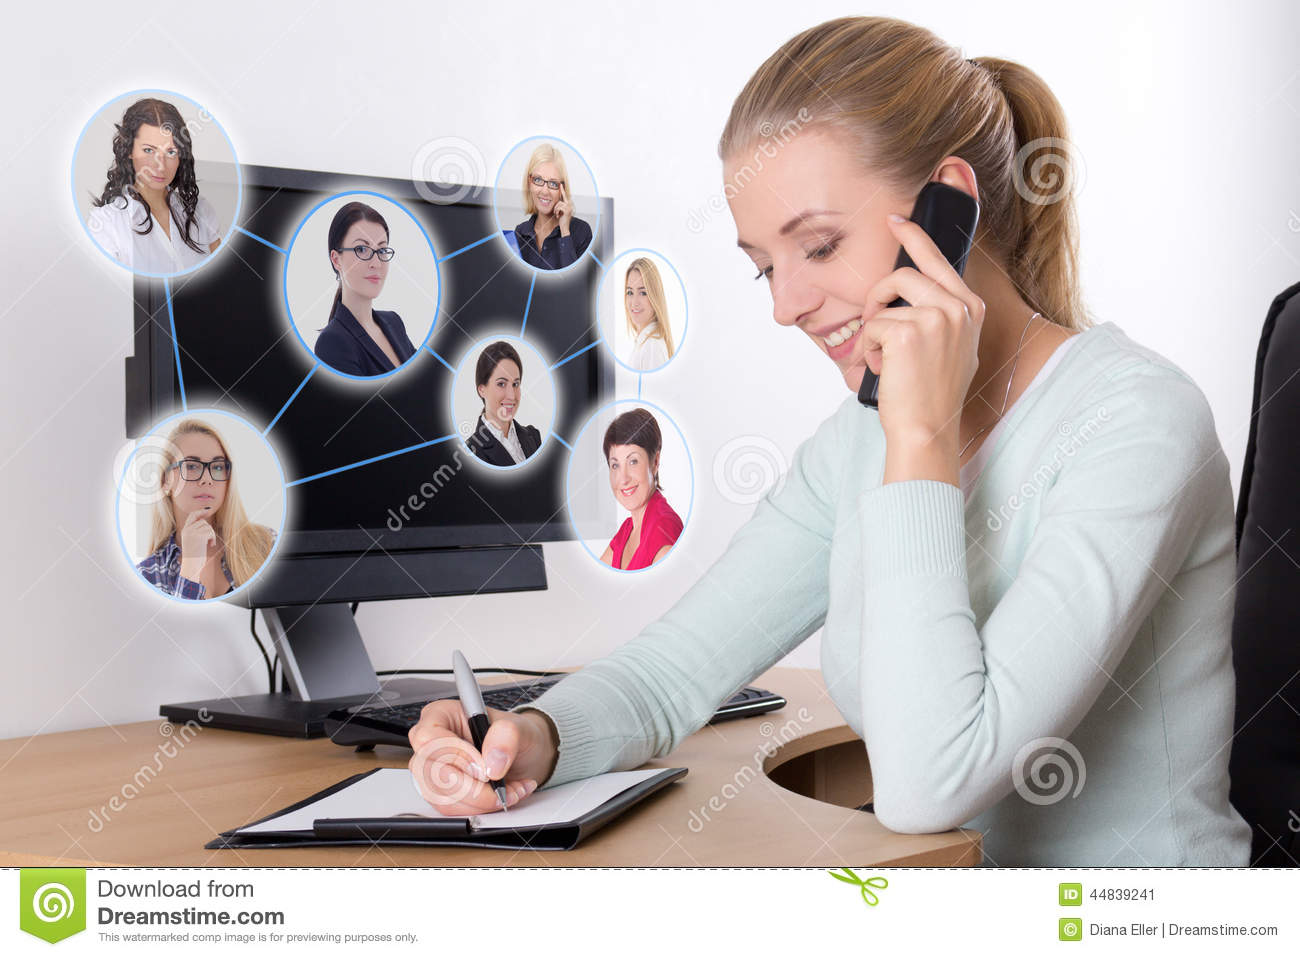phone: (859, 176, 977, 407)
talk: (739, 173, 983, 487)
